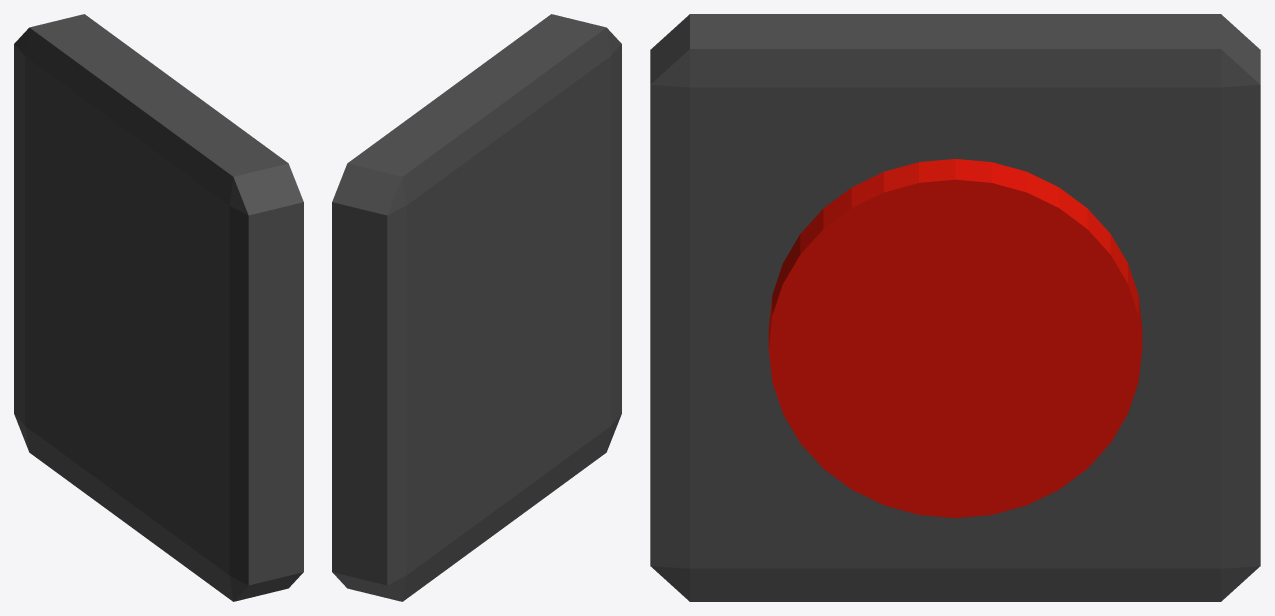
File: Switch.fbx
3 views of the same model, side by side, from view 1: azimuth 30°, elevation 25°; view 2: azimuth 150°, elevation 25°; view 3: azimuth 270°, elevation 25° (orthographic). The views are drawn at different scales.
Parts seen in each view (by area): view 1: Cube; view 2: Cube; view 3: Cube, Circle.
Part boxes in pixels (x1,y1,x2,y2): Cube: (14,14,303,601); Cube: (332,14,621,601); Cube: (650,14,1260,601); Circle: (768,159,1142,518).
Size of the model in its own units: 25.04 by 106 by 106.
